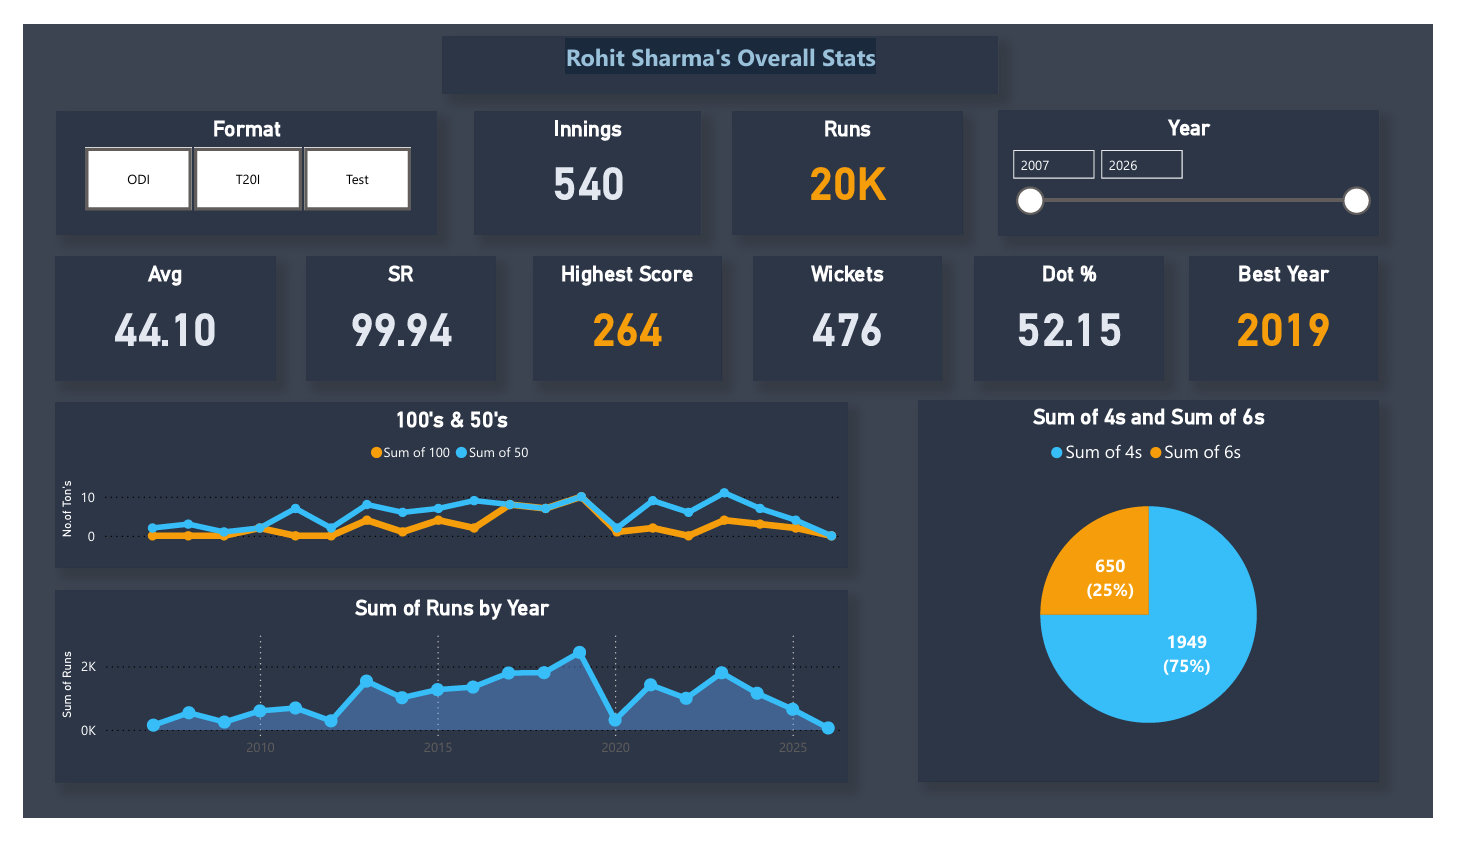

Layout of this report page (visuals, bound fields, positions):
{"tool":"powerbi","page":{"name":"Page 1","canvas":[1280,720],"ordinal":0},"visuals":[{"type":"textbox","box":[381.4,11.4,504.3,51.4],"z":0},{"type":"card","title":"Innings","fields":{"Values":["Sum(Sheet1.Innings)"]},"box":[410,78.6,205.7,112.9],"z":1000},{"type":"slicer","title":"Format","fields":{"Values":["Sheet1.Format"]},"box":[30,78.6,345.7,112.9],"z":2000},{"type":"card","title":"Runs","fields":{"Values":["Sum(Sheet1.Runs)"]},"box":[644.3,78.6,208.6,112.9],"z":3000},{"type":"slicer","title":"Year","fields":{"Values":["Sheet1.Year"]},"box":[885.5,78.4,346.2,113.4],"z":4000},{"type":"card","title":"Avg","fields":{"Values":["Avg(Sheet1.Avg)"]},"box":[28.6,211.4,200,112.9],"z":5000},{"type":"card","title":"SR","fields":{"Values":["Avg(Sheet1.SR)"]},"box":[257.1,211.4,171.4,112.9],"z":6000},{"type":"lineChart","title":"100''s & 50''s","fields":{"Category":["Sheet1.Year"],"Y":["Sum(Sheet1.100)","Sum(Sheet1.50)"]},"box":[28.6,342.9,720,150],"z":7000},{"type":"areaChart","fields":{"Y":["Sum(Sheet1.Runs)"],"Category":["Sheet1.Year"]},"box":[28.6,514.3,720,174.3],"z":8000},{"type":"card","title":"Highest Score","fields":{"Values":["Max(Sheet1.HS)"]},"box":[462.9,211.4,171.4,112.9],"z":9000},{"type":"card","title":"Wickets","fields":{"Values":["Sum(Sheet1.Outs)"]},"box":[662.9,211.4,171.4,112.9],"z":10000},{"type":"card","title":"Dot %","fields":{"Values":["Avg(Sheet1.Dot %)"]},"box":[864.3,211.4,171.4,112.9],"z":11000},{"type":"pieChart","fields":{"Y":["Sum(Sheet1.4s)","Sum(Sheet1.6s)"]},"box":[812.9,341.4,418.6,345.7],"z":12000},{"type":"card","title":"Best Year","fields":{"Values":["Sheet1.Best Year"]},"box":[1058.6,211.4,171.4,112.9],"z":13000}]}

Visuals, with their boxes in screenshot pixels (x1, y1, x2, y2), scaled from the page's 1280x720 canvas onto the 1458x842 screenshot:
textbox: region(434, 13, 1009, 73)
"Innings" card: region(467, 92, 701, 224)
"Format" slicer: region(34, 92, 428, 224)
"Runs" card: region(734, 92, 972, 224)
"Year" slicer: region(1009, 92, 1403, 224)
"Avg" card: region(33, 247, 260, 379)
"SR" card: region(293, 247, 488, 379)
"100''s & 50''s" lineChart: region(33, 401, 853, 576)
areaChart - Sum(Sheet1.Runs) x Sheet1.Year: region(33, 601, 853, 805)
"Highest Score" card: region(527, 247, 723, 379)
"Wickets" card: region(755, 247, 950, 379)
"Dot %" card: region(984, 247, 1180, 379)
pieChart - Sum(Sheet1.4s) x Sum(Sheet1.6s): region(926, 399, 1403, 804)
"Best Year" card: region(1206, 247, 1401, 379)
